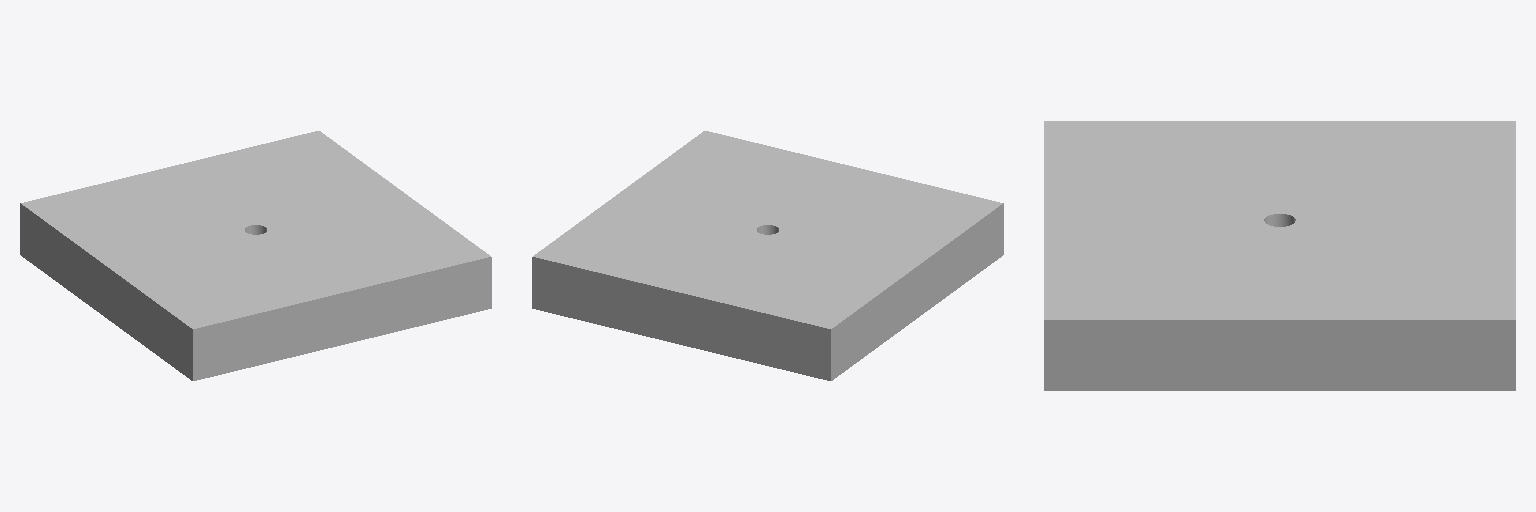
The robot description file, URDF, robot "circle_20mm.urdf":
<?xml version="0.0" ?>
<robot name="circle_20mm.urdf">
  <link name="base">
    <inertial>
      <origin rpy="0 0 0" xyz="0 0 0"/>
      <mass value="0.0"/>
      <inertia ixx="0.03" ixy="0" ixz="0" iyy="0.03" iyz="0" izz="0.005"/>
    </inertial>
  </link>

  <joint name="empty" type="fixed">
    <parent link="base"/>
    <child link="box"/>
  </joint>

  <link name="box">
    <inertial>
      <origin rpy="3.14159 0 0" xyz="0 0 0.0"/>
      <mass value="0"/>
      <inertia ixx="0.001" ixy="0" ixz="0" iyy="0.001" iyz="0" izz="0.001"/>
    </inertial>
     
     <visual>
      <origin rpy="1.57075 0 0" xyz="0 0 0"/>
      <geometry>
        <mesh filename="stl/visual/circle_20mm.STL" scale="0.002 0.002 0.002"/>
      </geometry>
       <material name="white">
        <color rgba="0.8 0.8 0.8 1"/>
      </material>
    </visual>
    
    <collision concave="yes">
      <origin rpy="1.57075 0 0" xyz="0 0 0"/>
      <geometry>
           <mesh filename="stl/collision/circle_20mm.STL" scale="0.002 0.002 0.002"/>
      </geometry>
    </collision>
  </link>
</robot>

--- Facts derived from the render (not from the file) ---
The picture shows the robot from 3 angles, left to right: view 1: azimuth 30°, elevation 25°; view 2: azimuth 150°, elevation 25°; view 3: azimuth 270°, elevation 25°; orthographic projection.
Robot: circle_20mm.urdf — 2 links, 1 joints (1 fixed); root link base; default pose: all joints at 0.
Links seen in each view (by area): view 1: box; view 2: box; view 3: box.
Link boxes in pixels (x1,y1,x2,y2): box: [20, 131, 491, 380]; box: [532, 131, 1003, 380]; box: [1044, 121, 1515, 390].
Bounding box of the posed robot: 0.6 × 0.6 × 0.1 m (x, y, z).
1 mesh visuals loaded from 1 distinct referenced files (1 binary STL).